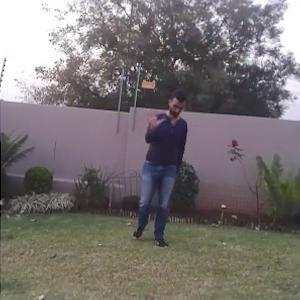follow_hand: (143, 105, 166, 131)
